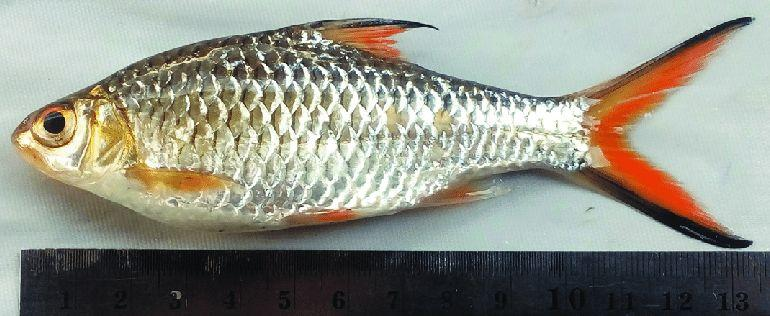Silver Barb: (12, 15, 770, 252)
